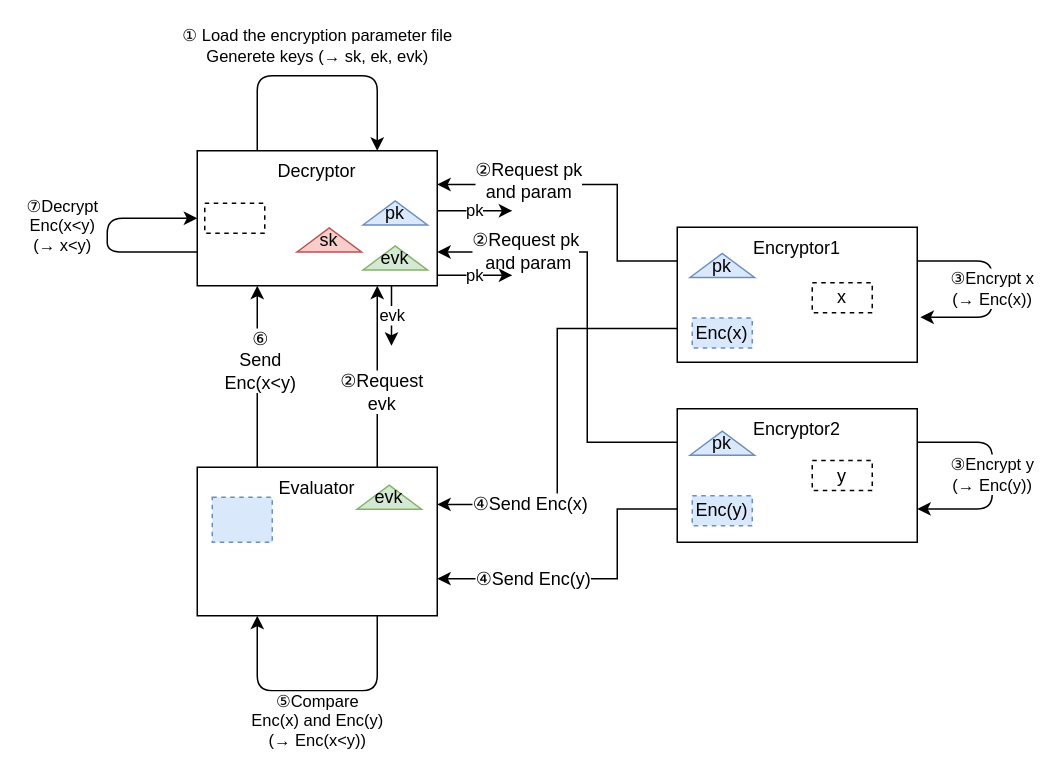
Image size: 1059x776. Some labels were removed from this diagram. Here are the shapes that lost their labels. From the top down, the centre of each, then its label:
At point 234,217: "x<y".
At point 241,519: "Enc (x<y)".
